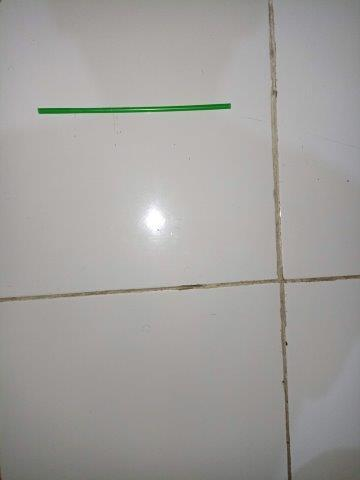sedotan: (38, 103, 232, 113)
